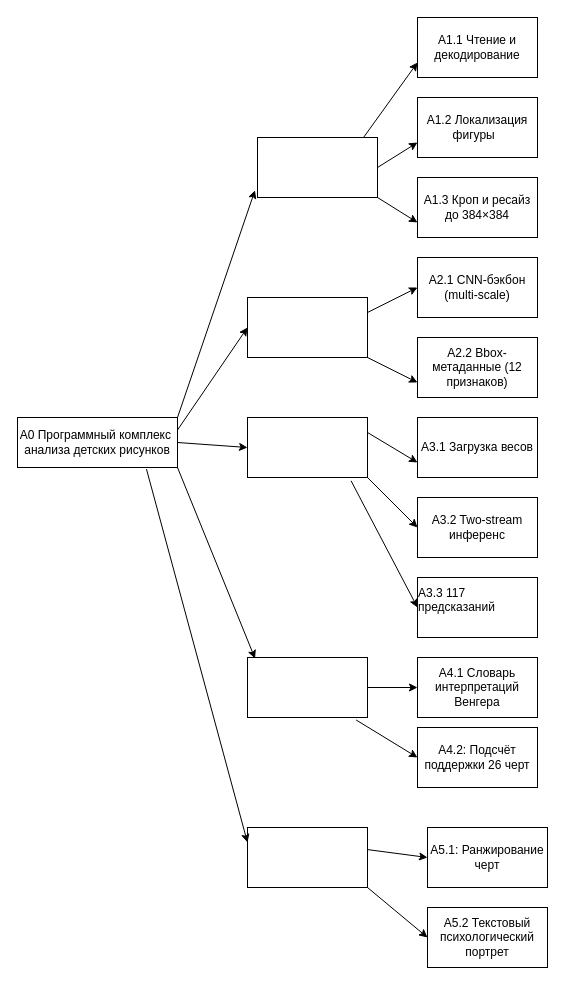
Image size: 565x985. Some labels were removed from this diagram. Each missing label, with the centre of its shape:
A3 Классификация признаков: the point at 307,447
A4 Интерпретация результатов: the point at 307,687
A5: Формирование отчёта: the point at 307,857
А1 Прием и предобработка изображений: the point at 317,167
А2 Извлечение признаков: the point at 307,327
